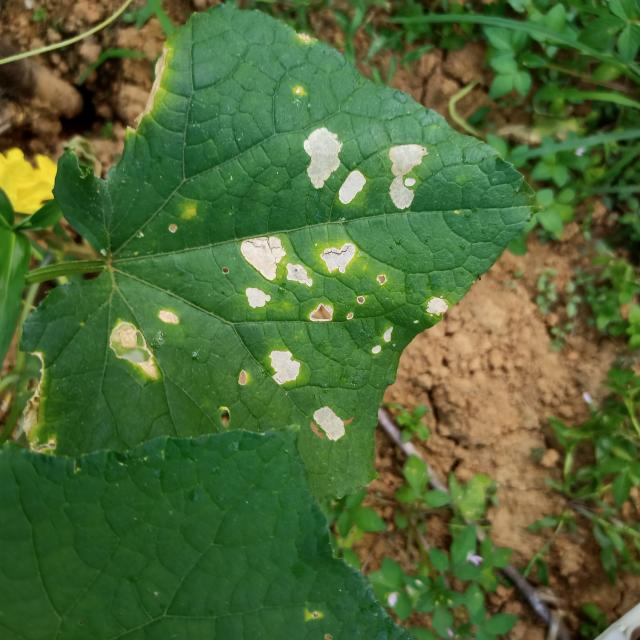disease_cucumber: (238, 235, 366, 324), (107, 307, 181, 380), (304, 126, 368, 205), (385, 142, 429, 212), (311, 404, 349, 443), (268, 347, 301, 386), (370, 323, 398, 357), (425, 294, 450, 318)
